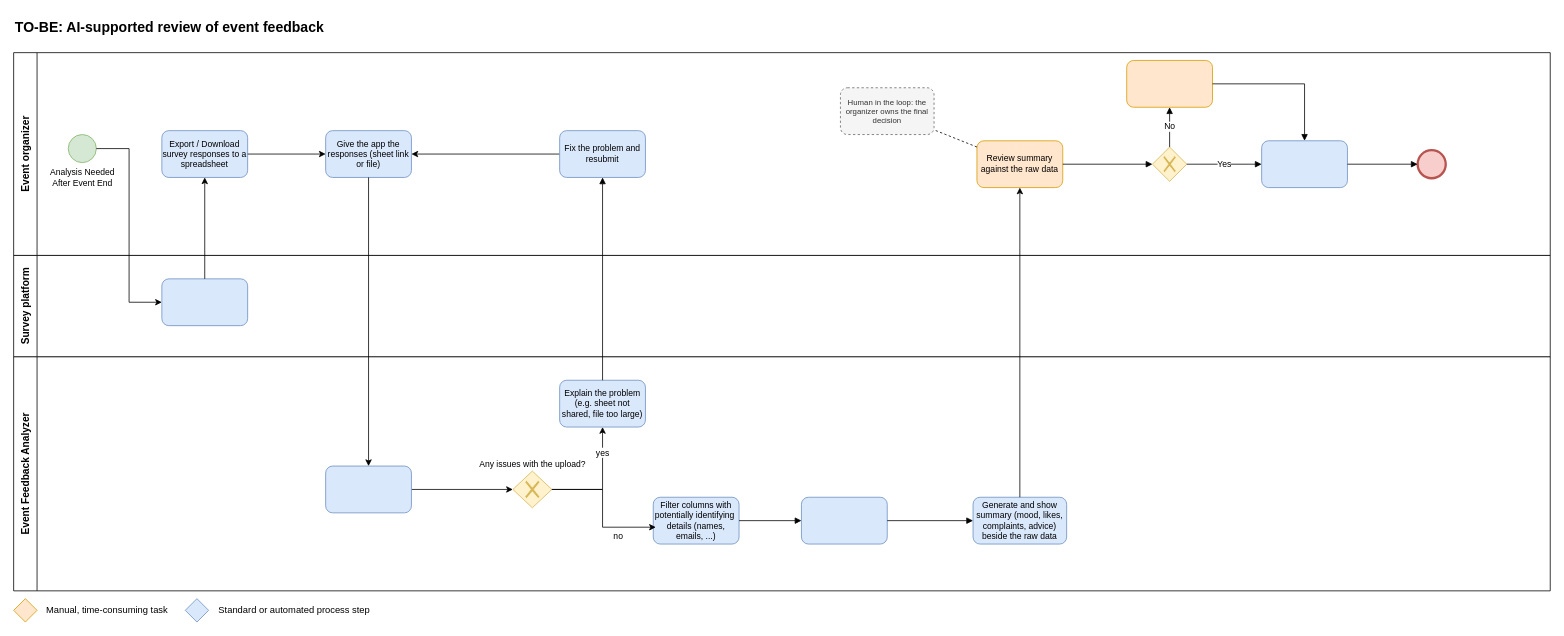
Image size: 1564x636. Some labels were removed from this diagram. Here are the shapes that lost their labels. From the top down, the centre of each, then its label:
(1169,83): Correct the summary by hand
(1169,163): Summary matches the data?
(1304,164): Decide next-event actions and share with the team
(1431,163): Feedback reviewed
(204,302): Collect responses (Google Forms / Typeform)
(368,489): Receive and read the responses
(844,520): AI analyzes the written feedback
